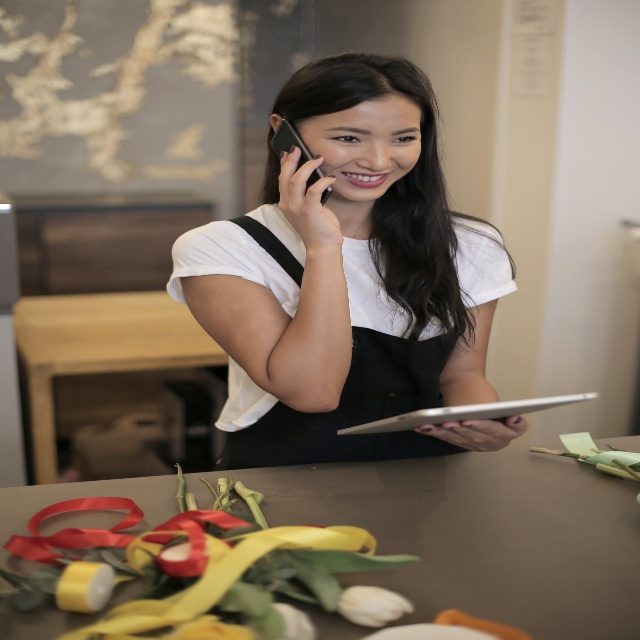Sin_guantes: (278, 146, 344, 254), (413, 414, 530, 453)
